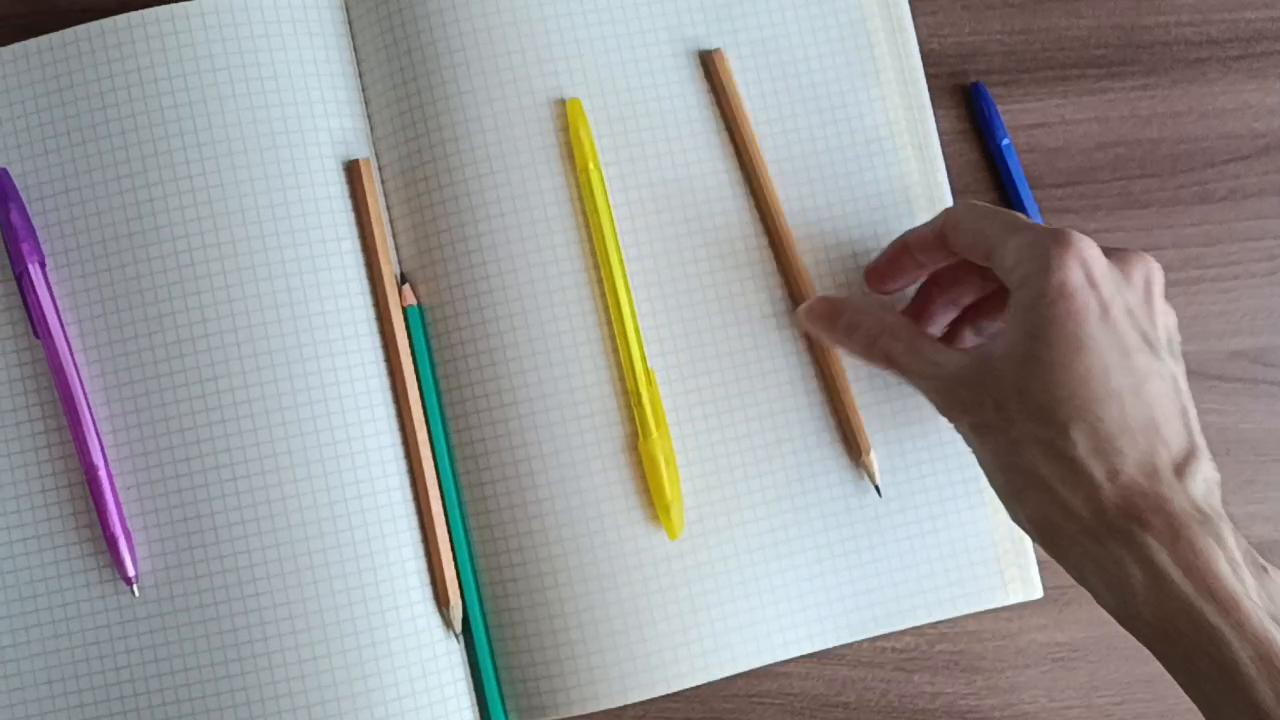pen: (0, 164, 149, 605), (551, 80, 689, 550), (963, 65, 1064, 248)
pencil: (696, 35, 888, 508), (331, 153, 468, 648), (399, 264, 515, 720)
